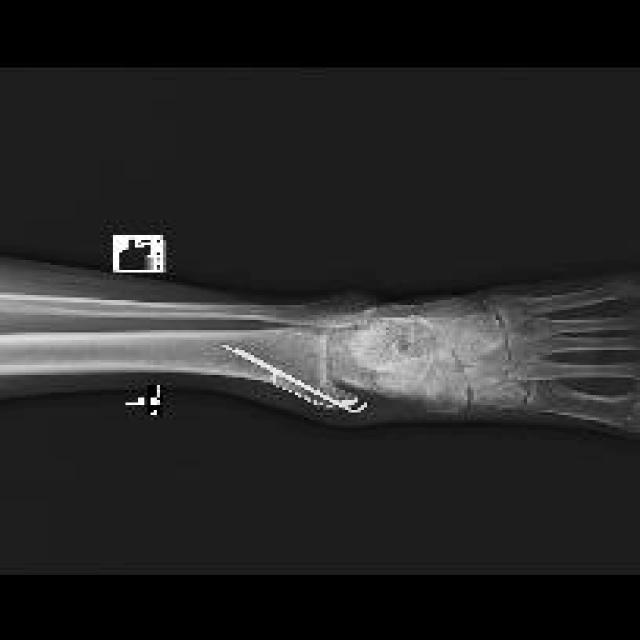normal: (3, 276, 638, 431)
